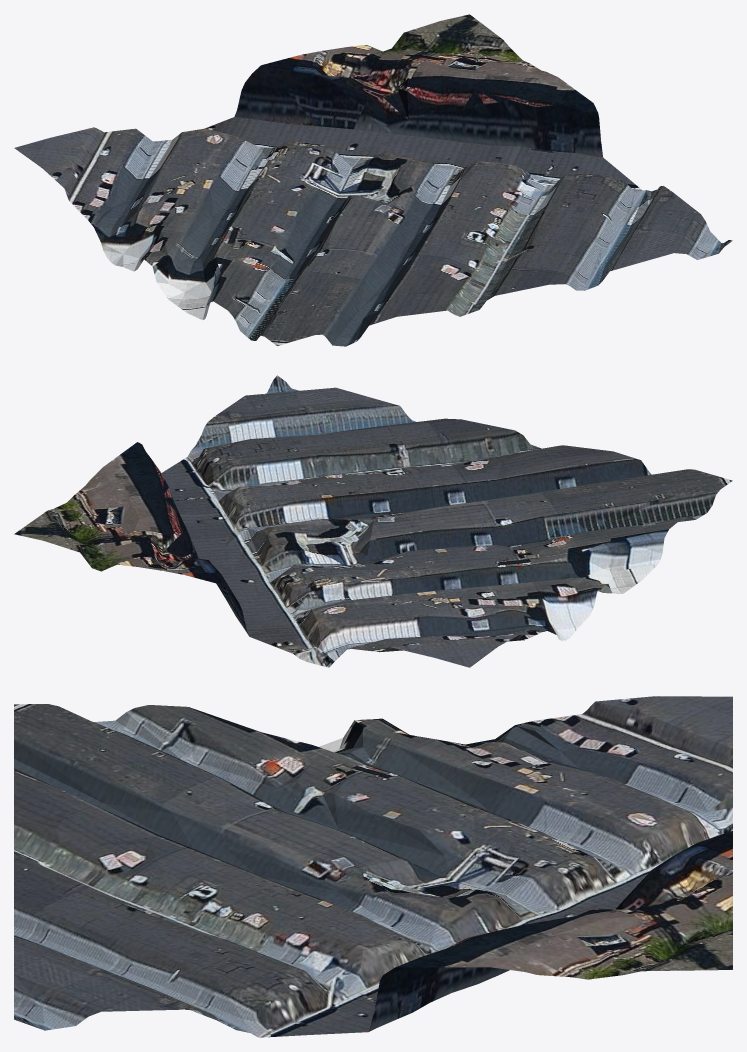
Rendered from map_15_8184_13786.dae.
3 renders of one model, top to bottom at view 1: azimuth 30°, elevation 25°; view 2: azimuth 150°, elevation 25°; view 3: azimuth 270°, elevation 25°, orthographic. The views are drawn at different scales.
Visible parts, largest first — view 1: Ter0; view 2: Ter0; view 3: Ter0.
Part boxes in pixels (x1,y1,x2,y2): Ter0: [14, 14, 732, 346]; Ter0: [14, 375, 732, 667]; Ter0: [14, 696, 732, 1037].
Size of the model in its own units: 63.88 by 63.88 by 9.16.
Materials: 2 (2 with a texture image).
